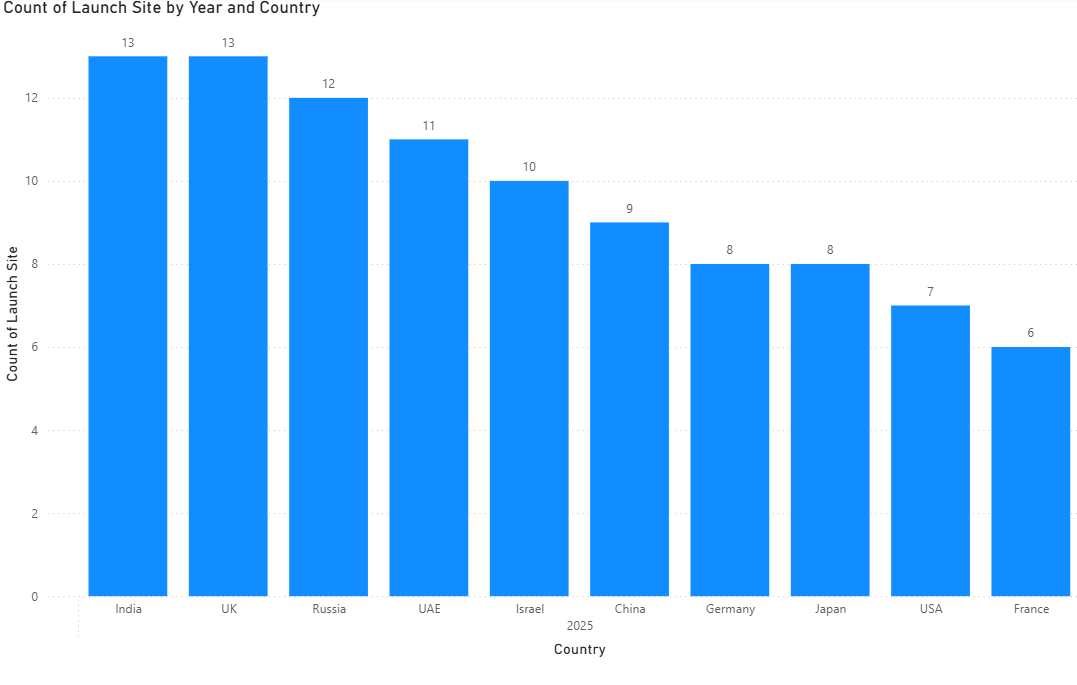

This screenshot's page, from the dashboard's own definition file:
{"tool":"powerbi","page":{"name":"Page 2","canvas":[1280,720],"ordinal":1},"visuals":[{"type":"clusteredColumnChart","fields":{"Y":["CountNonNull(SpaceDataClean.Launch Site)"],"Category":["SpaceDataClean.Country","SpaceDataClean.Year"]},"box":[196.5,61.3,886.1,623.5],"z":0}]}

Visuals, with their boxes on the page's 1280x720 design canvas (x1, y1, x2, y2). These are canvas units, not pixel positions in the 1077x685 screenshot, which may show the page scaled, cropped or inside an application window:
clusteredColumnChart - CountNonNull(SpaceDataClean.Launch Site) x SpaceDataClean.Country: [left=196, top=61, right=1083, bottom=685]
